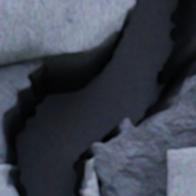brick: (167, 148, 195, 195)
broken_brick: (0, 0, 135, 65), (83, 164, 97, 195), (0, 165, 11, 195)
crack: (0, 0, 195, 195)
